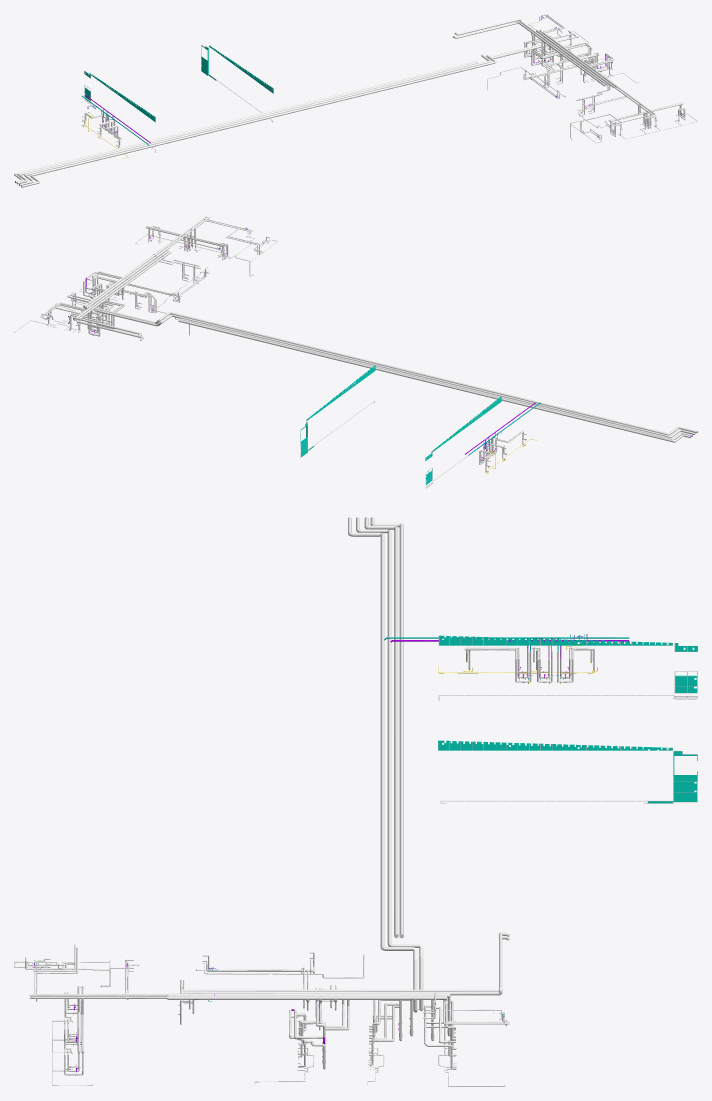
File: detail-pipes-lite-4-3f.glb
3 views of the same model, one above another, from view 1: azimuth 30°, elevation 25°; view 2: azimuth 150°, elevation 25°; view 3: azimuth 270°, elevation 25° (orthographic). The views are drawn at different scales.
Bounding box in the file's own units: 132 × 7.51 × 71.88.
